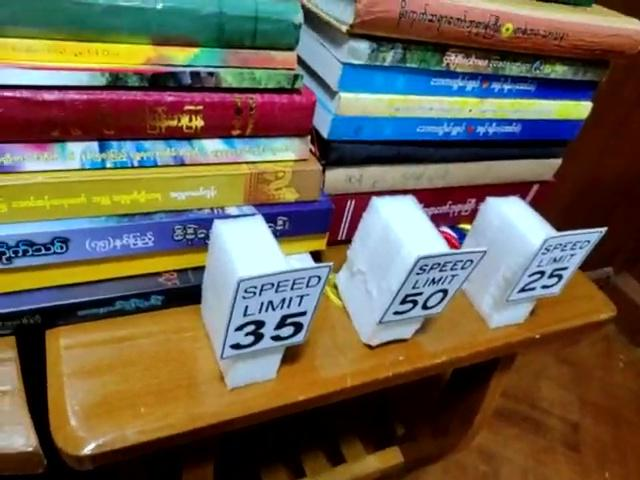Speed Limit 25: (507, 227, 607, 301)
Speed Limit 35: (218, 262, 333, 359)
Speed Limit 50: (379, 249, 484, 321)
